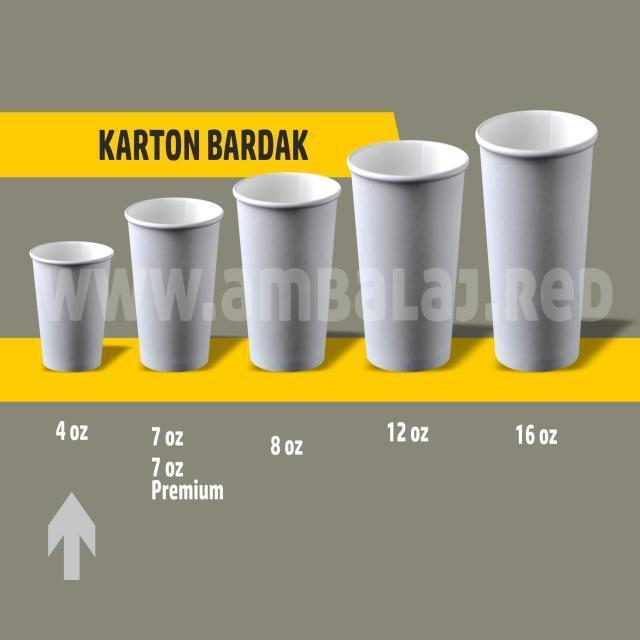trash: (470, 111, 606, 396), (343, 140, 473, 386), (230, 174, 346, 382), (124, 186, 223, 382), (20, 237, 116, 381)
